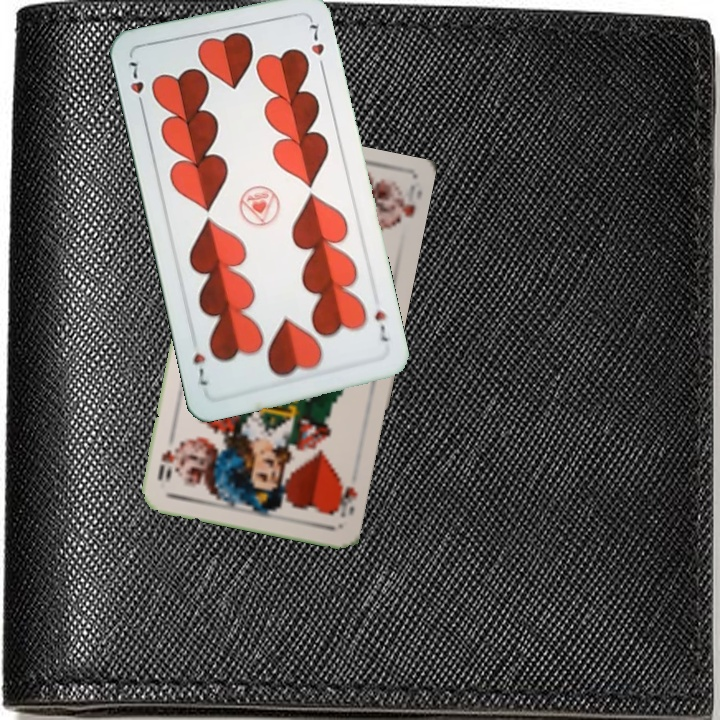H7: (125, 57, 147, 113), (370, 306, 391, 344)
HO: (330, 479, 360, 520)
